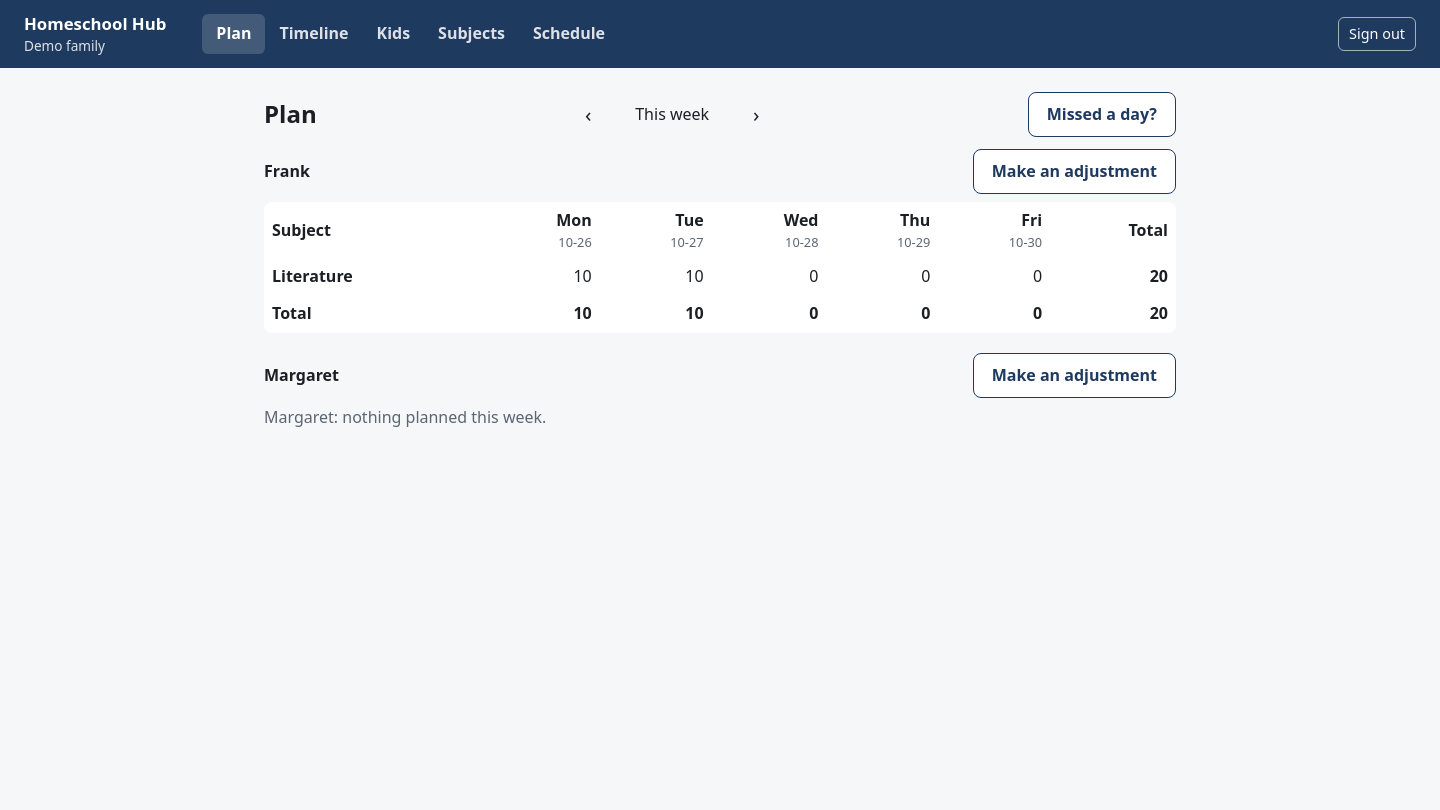
Test: Make an adjustment › shows only that child's rows, in the same calm rows as the card, each tinted with its subject's pastel
The image size is (1440, 810).
Click the button with aria-label "Make an adjustment for Frank".
click(1074, 172)  # box [973, 149, 1176, 194]
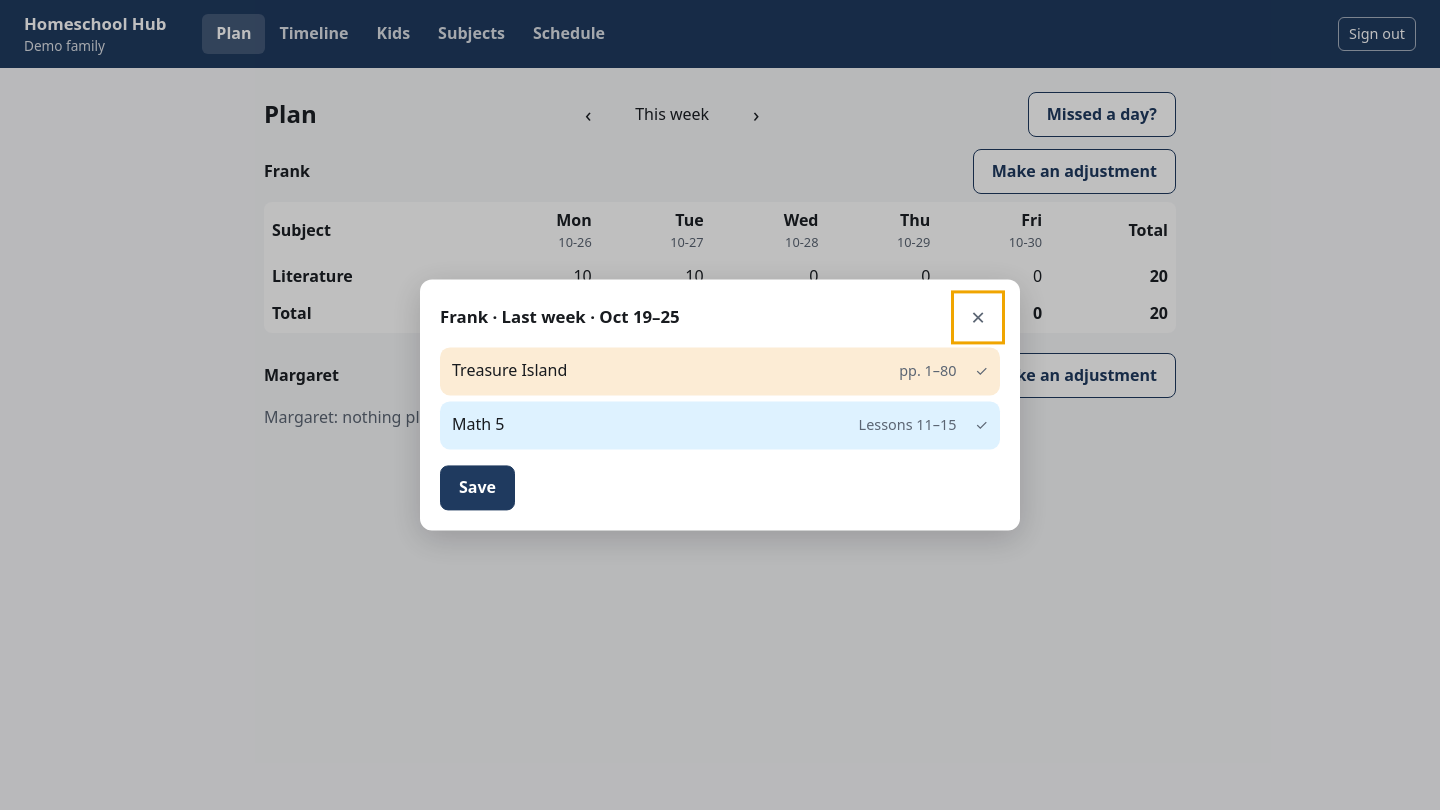
expect the buttons read "Treasure Islandpp. 1–80✓As planned", "Math 5Lessons 11–15✓As planned", in this order: met, box [440, 347, 1000, 395]; [440, 401, 1000, 449]
expect the button "Save" is enabled: met, box [440, 465, 515, 511]
